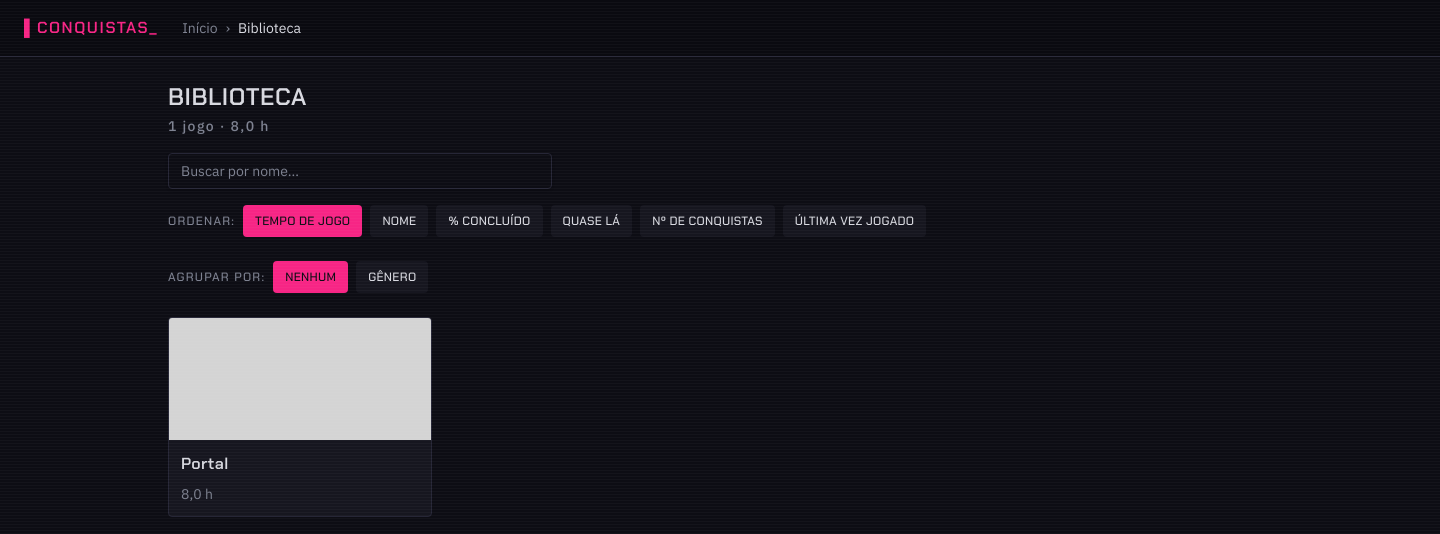
Scenario: Library › avisa quando a busca não encontra nenhum jogo
Expected: the heading "Portal" is shown, x1=181 y1=454 x2=229 y2=474
Step 1. Type "xyz" into the search field → (360, 171), box x1=168 y1=153 x2=552 y2=189
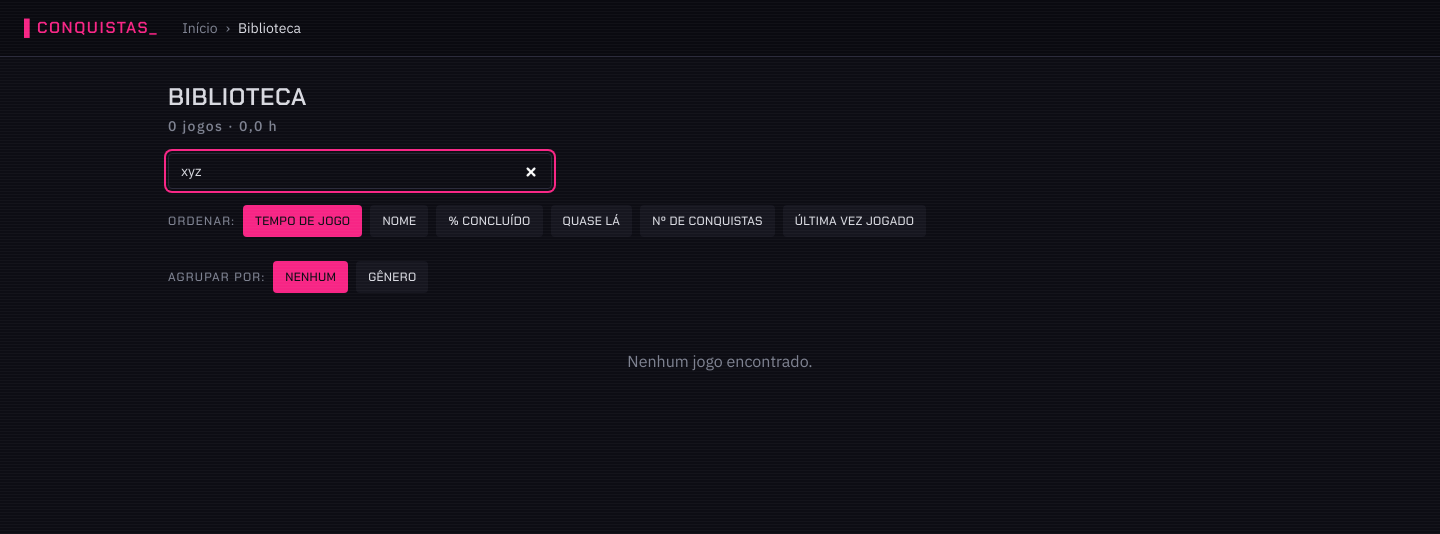
Expected: the text "Nenhum jogo encontrado." is shown, x1=627 y1=351 x2=813 y2=371
